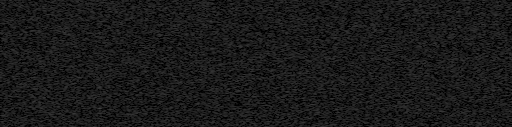wv_am: (402, 0, 432, 127)
wv_cw: (198, 0, 203, 105), (198, 106, 203, 126)
wv_wbfm: (471, 0, 482, 116), (472, 117, 482, 126)
